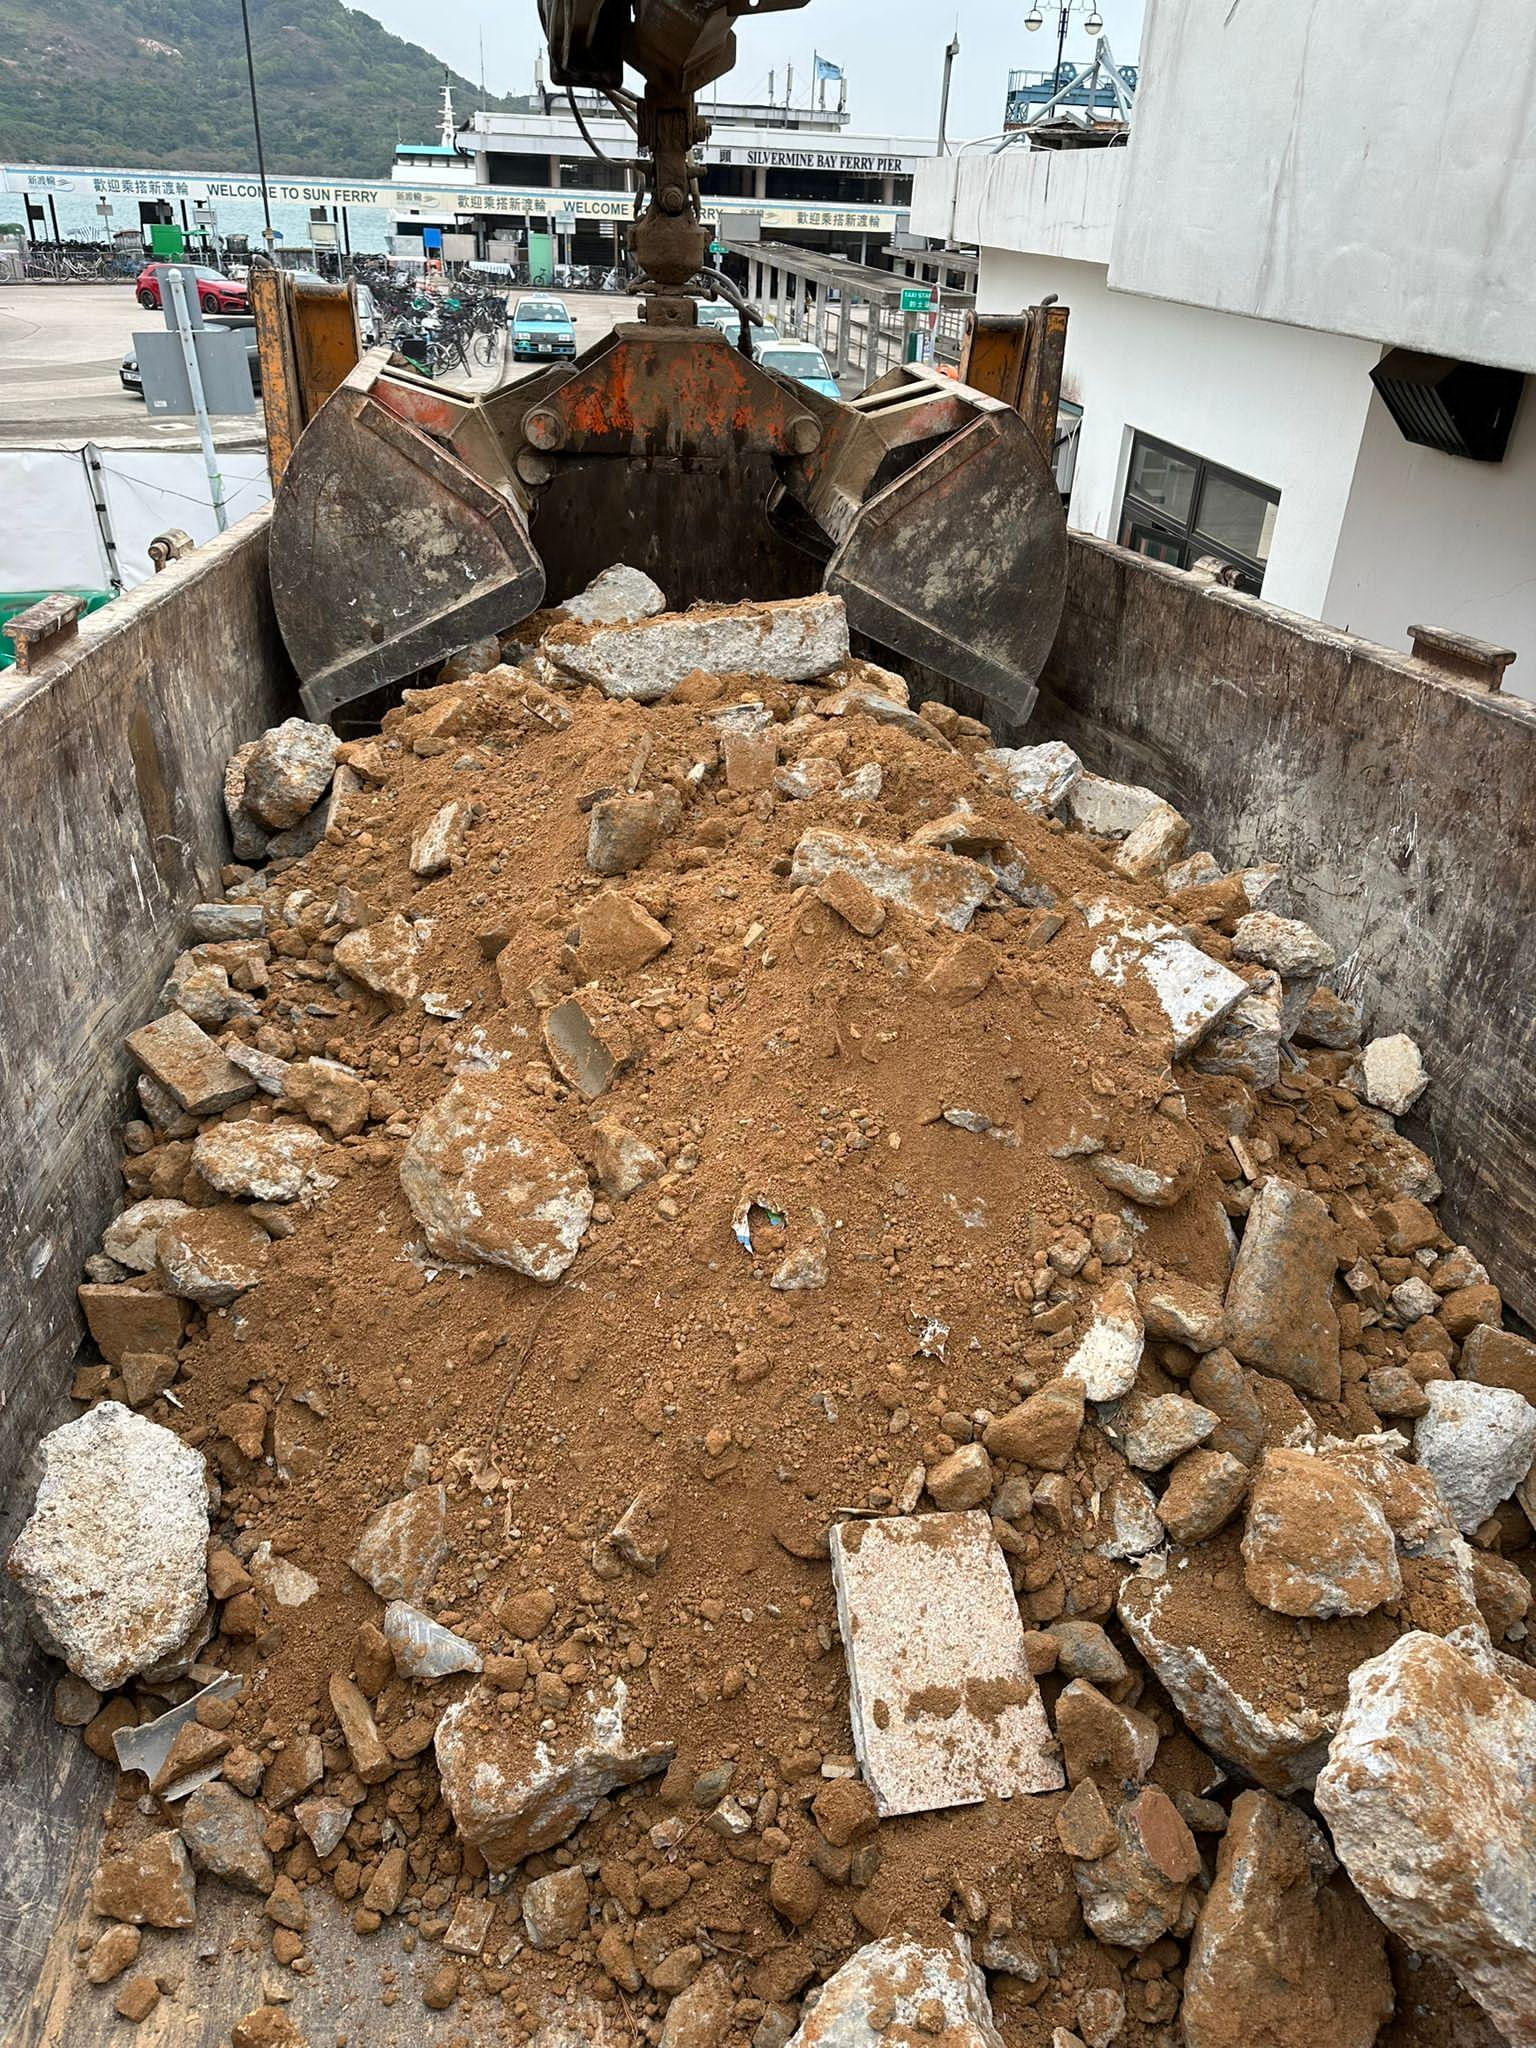dry: (53, 603, 1483, 1970)
